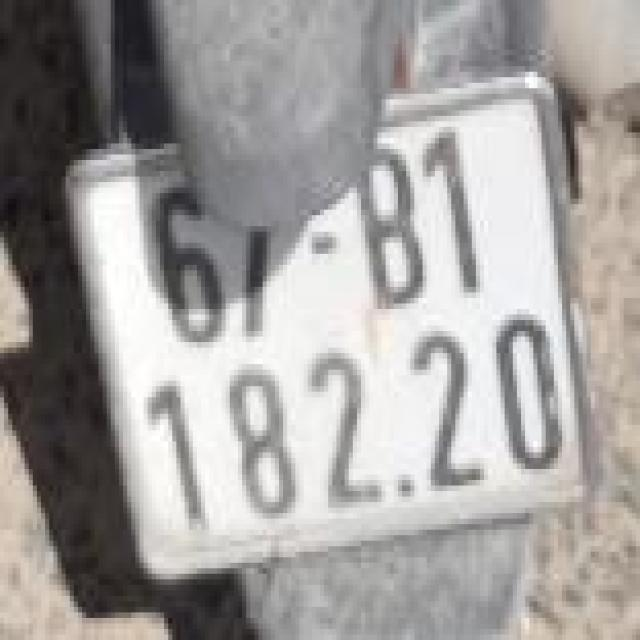0: (485, 304, 573, 484)
1: (415, 112, 502, 310), (133, 365, 219, 545)
2: (399, 313, 498, 504), (296, 333, 392, 525)
6: (138, 158, 237, 356)
7: (229, 141, 285, 349)
8: (218, 349, 309, 532)
B: (341, 126, 434, 322)
